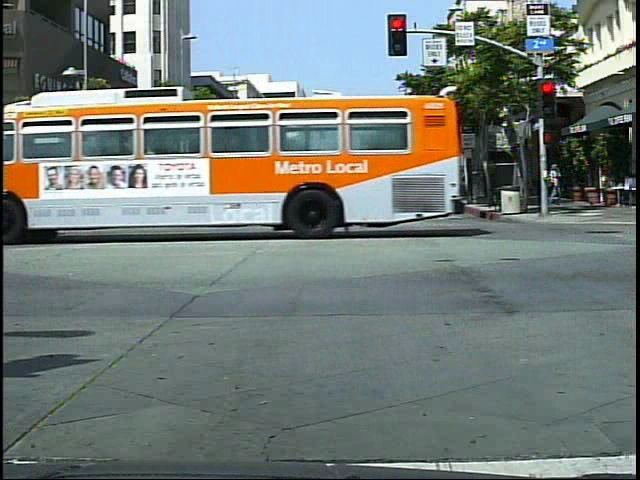person: (275, 165, 307, 229), (172, 168, 202, 234), (353, 166, 382, 230), (548, 160, 571, 205)
